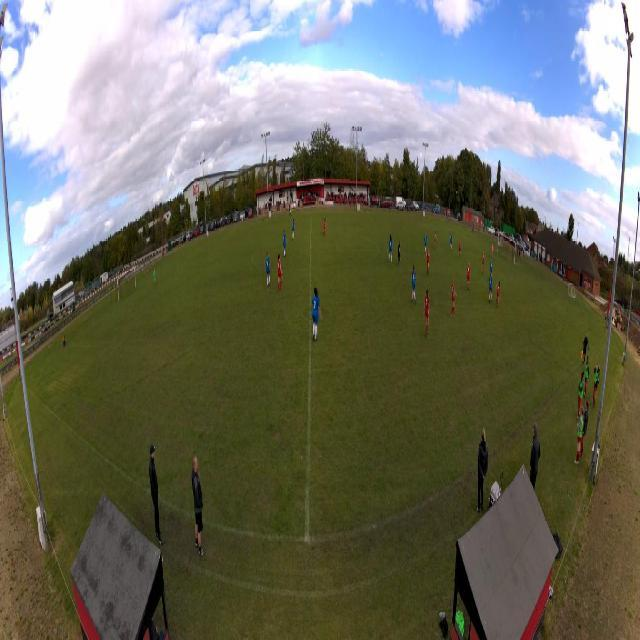ball: (456, 190, 457, 194)
player: (311, 286, 322, 342), (448, 276, 457, 318), (424, 288, 430, 337), (277, 253, 283, 292), (411, 266, 417, 305), (265, 252, 271, 289), (488, 273, 493, 305), (496, 280, 501, 309), (426, 245, 430, 275), (389, 234, 393, 263), (466, 261, 470, 290), (283, 229, 287, 257), (398, 240, 402, 267), (482, 250, 486, 277), (323, 213, 327, 237), (489, 259, 493, 283), (291, 219, 295, 240), (153, 267, 157, 288), (434, 231, 438, 250), (459, 238, 462, 260), (424, 233, 427, 254), (450, 232, 453, 250), (491, 242, 494, 260)
